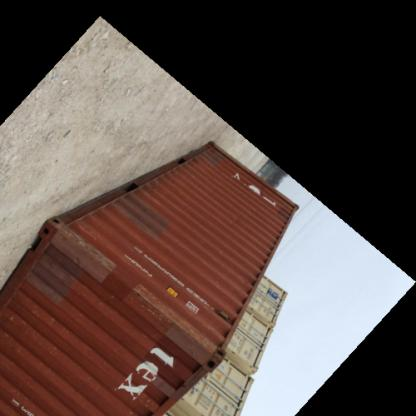Damage: (51, 226, 129, 269), (169, 324, 225, 368), (134, 276, 168, 328), (32, 296, 56, 338), (96, 288, 130, 312)
